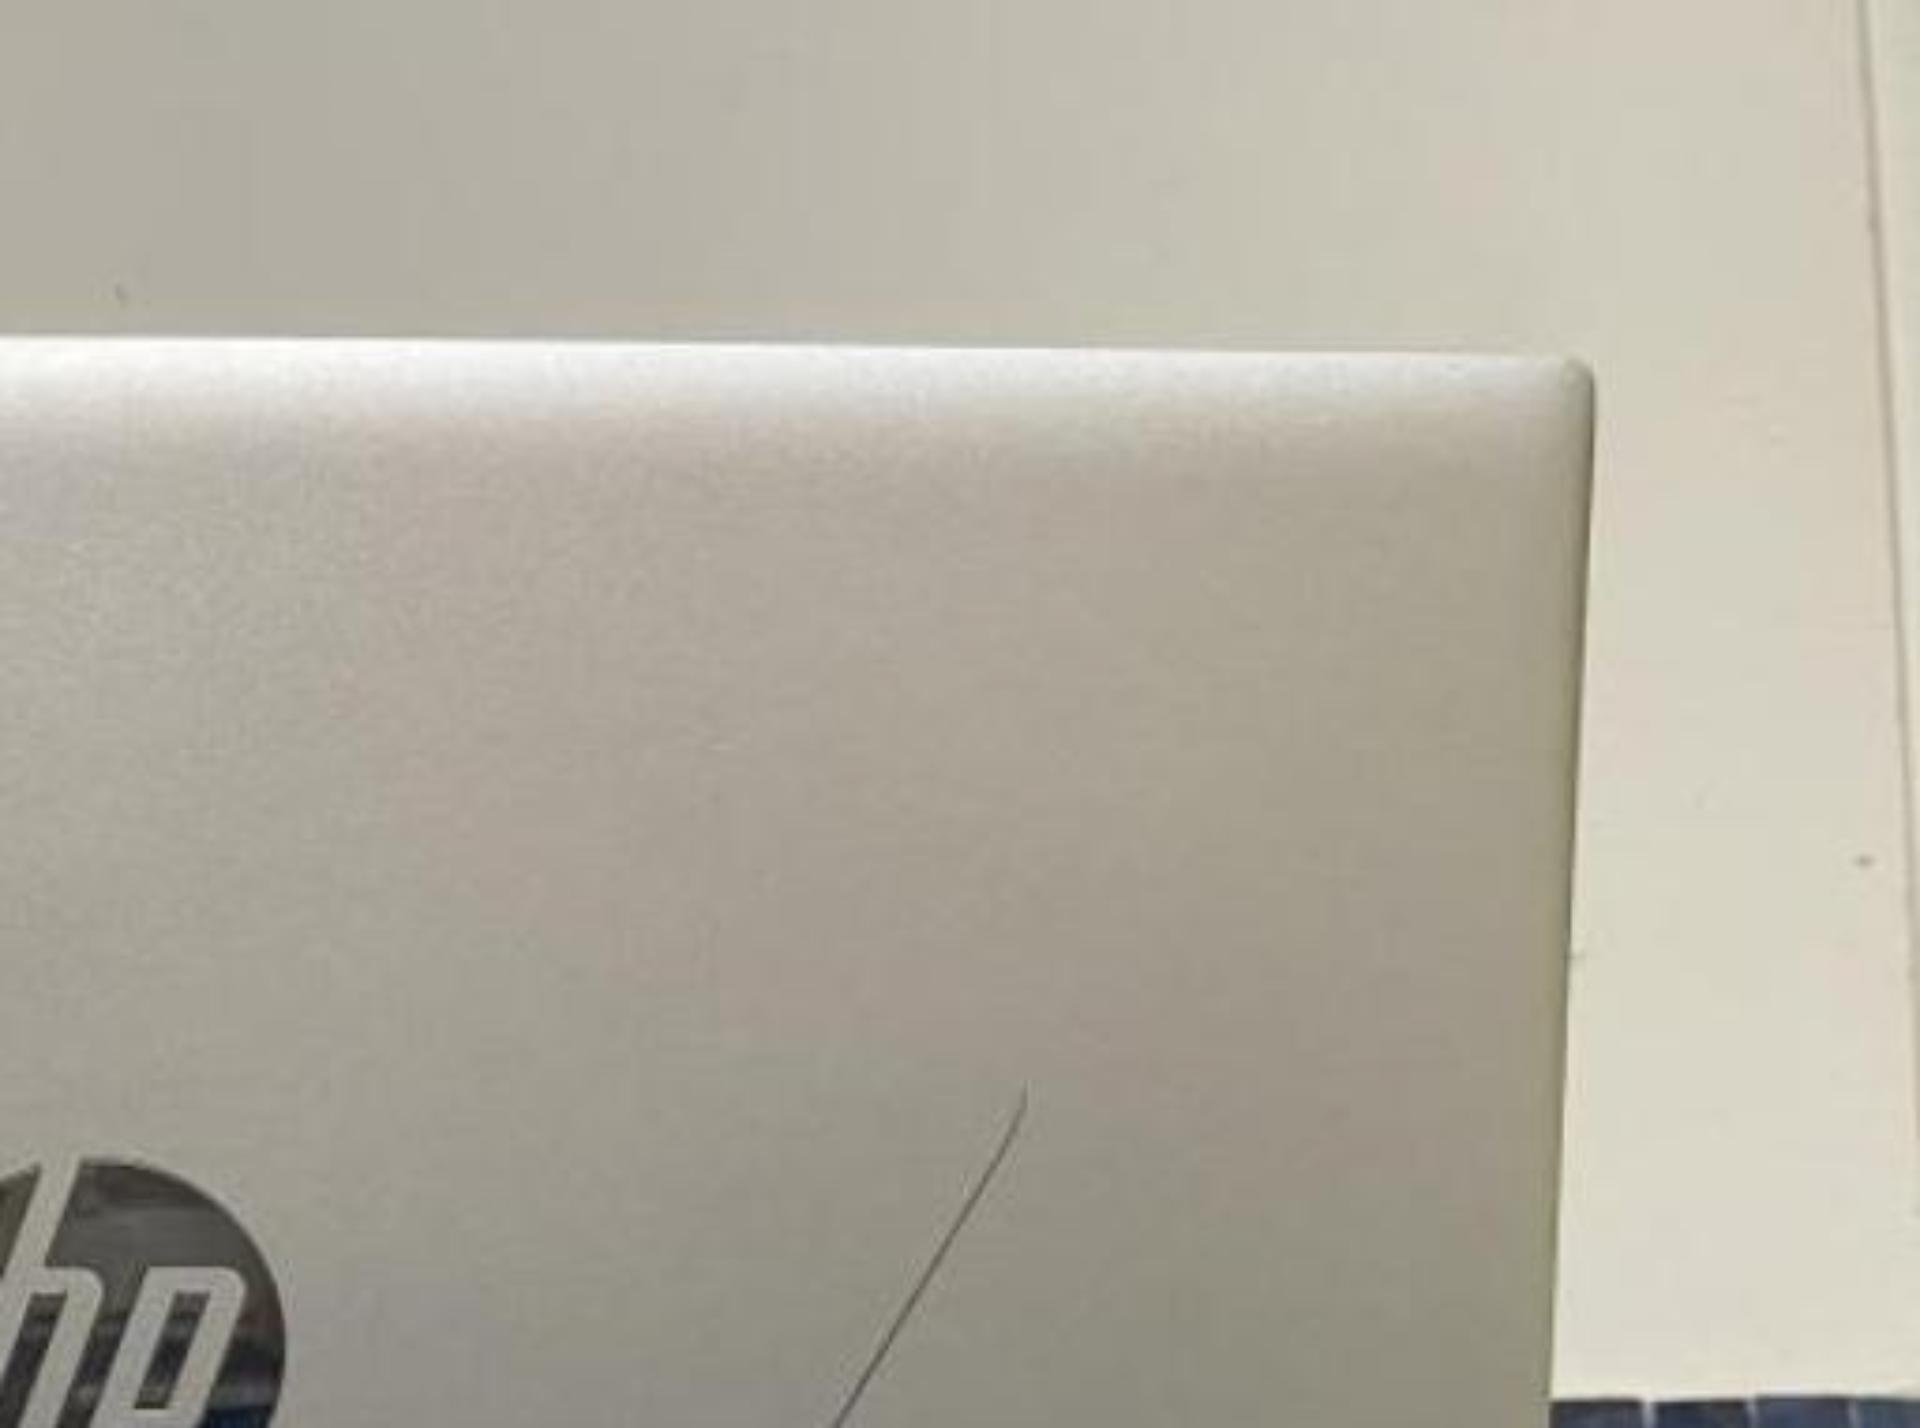scratches: (817, 1087, 1023, 1428)
